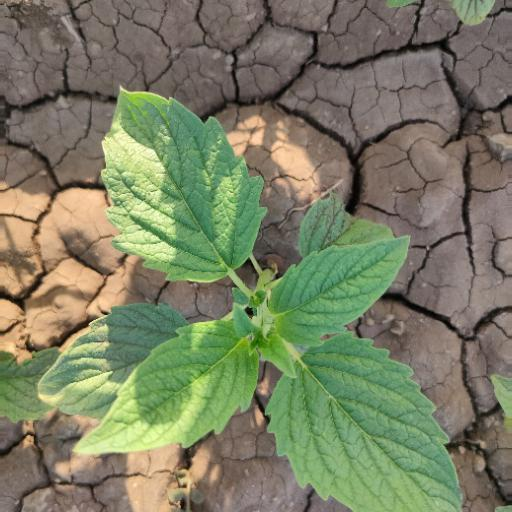crop: (77, 67, 463, 512)
